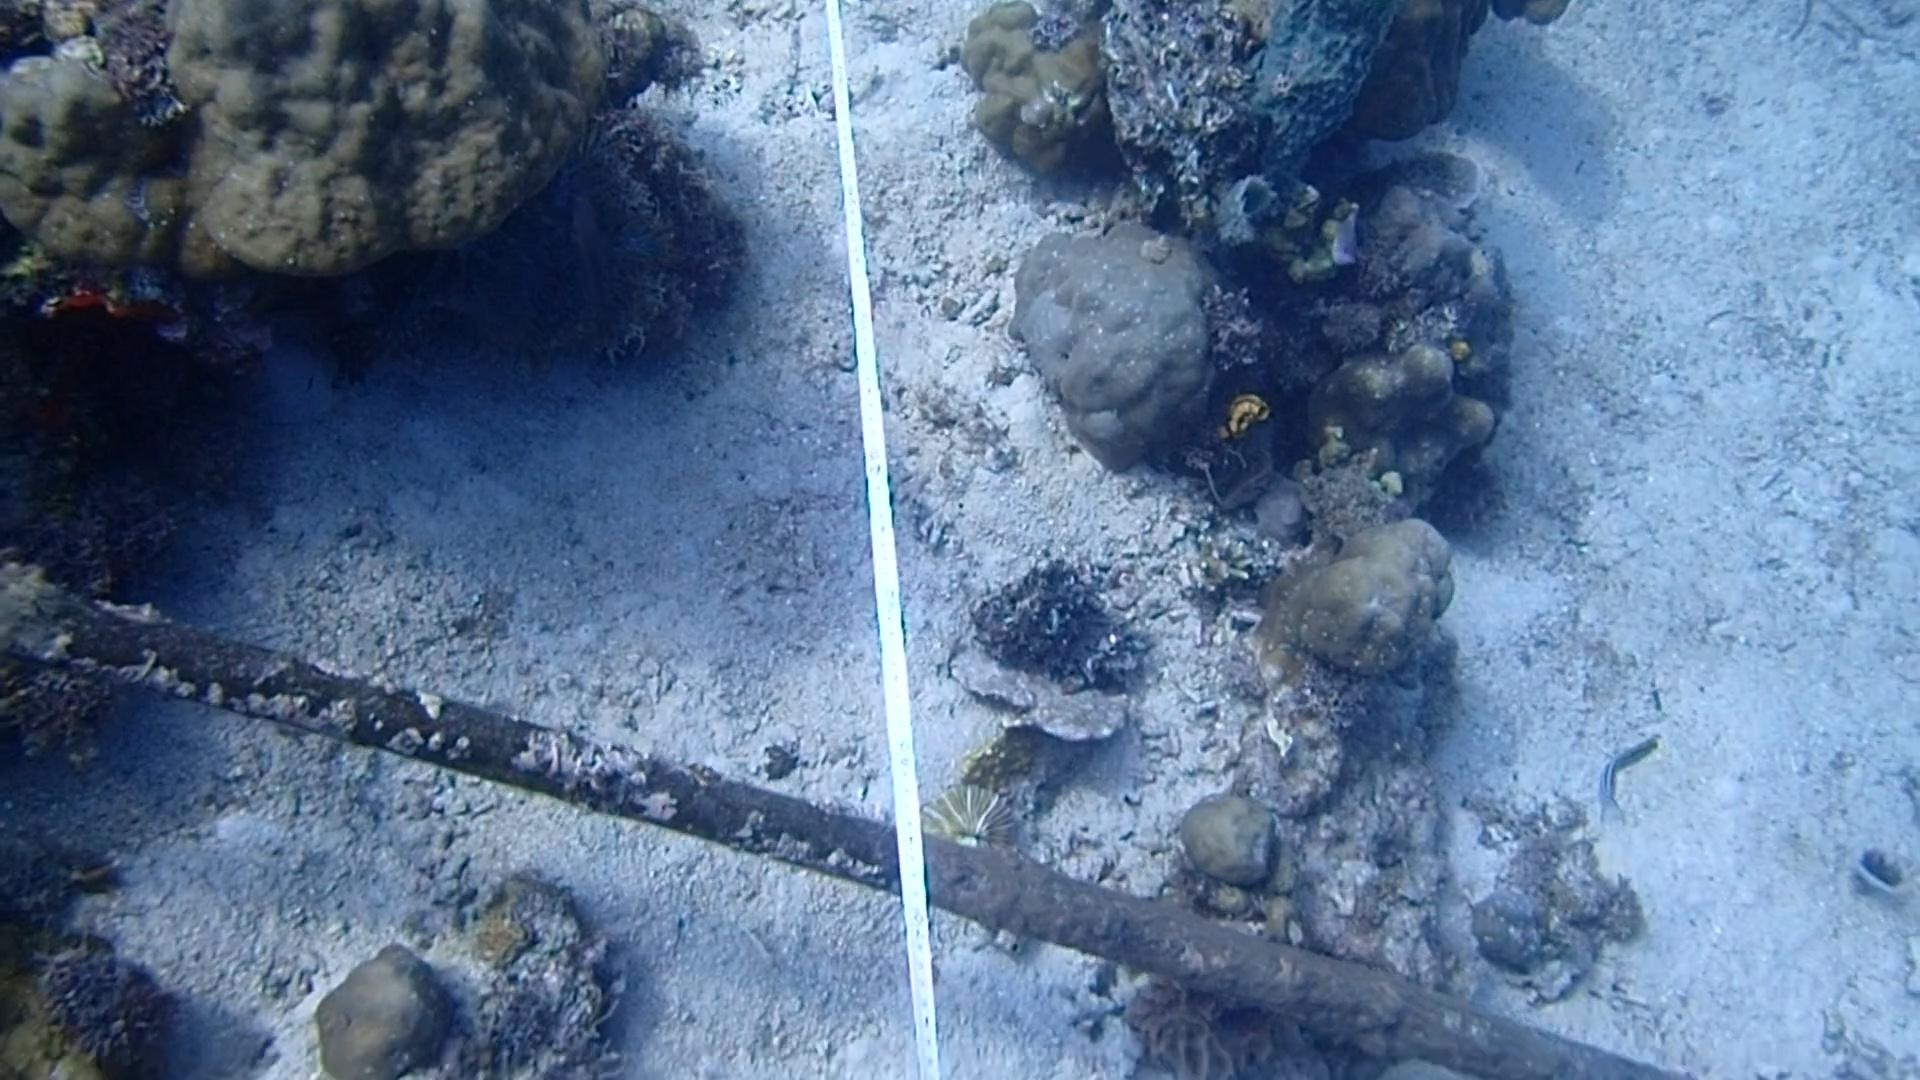Blue Nose Fish: (1325, 196, 1362, 270)
Dark Fish: (551, 191, 629, 310)
Striped Fish: (1577, 724, 1664, 824)
